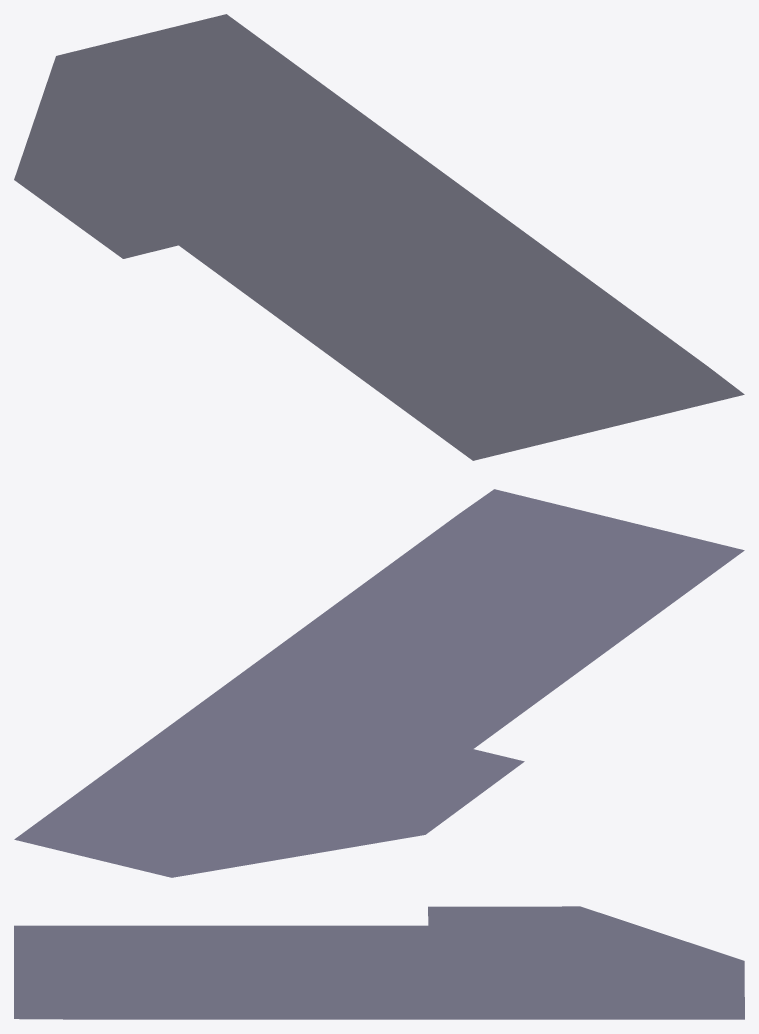
3 views of the same model, one above another, from view 1: azimuth 30°, elevation 25°; view 2: azimuth 150°, elevation 25°; view 3: azimuth 270°, elevation 25° (orthographic). The views are drawn at different scales.
Visible parts, largest first — view 1: Joint_0_Object_0; view 2: Joint_0_Object_0; view 3: Joint_0_Object_0.
Boxes of the visible parts, x1,y1,x2,y2 form: Joint_0_Object_0: [14, 14, 744, 460]; Joint_0_Object_0: [14, 489, 744, 877]; Joint_0_Object_0: [14, 906, 744, 1019].
Bounding box in the file's own units: 1978 × 0 × 5403.
1 material, 1 textured.
